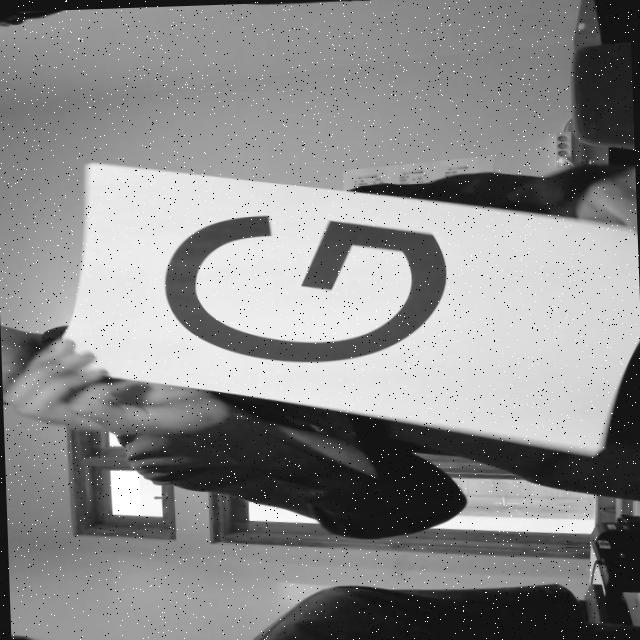g: (144, 194, 500, 376)
